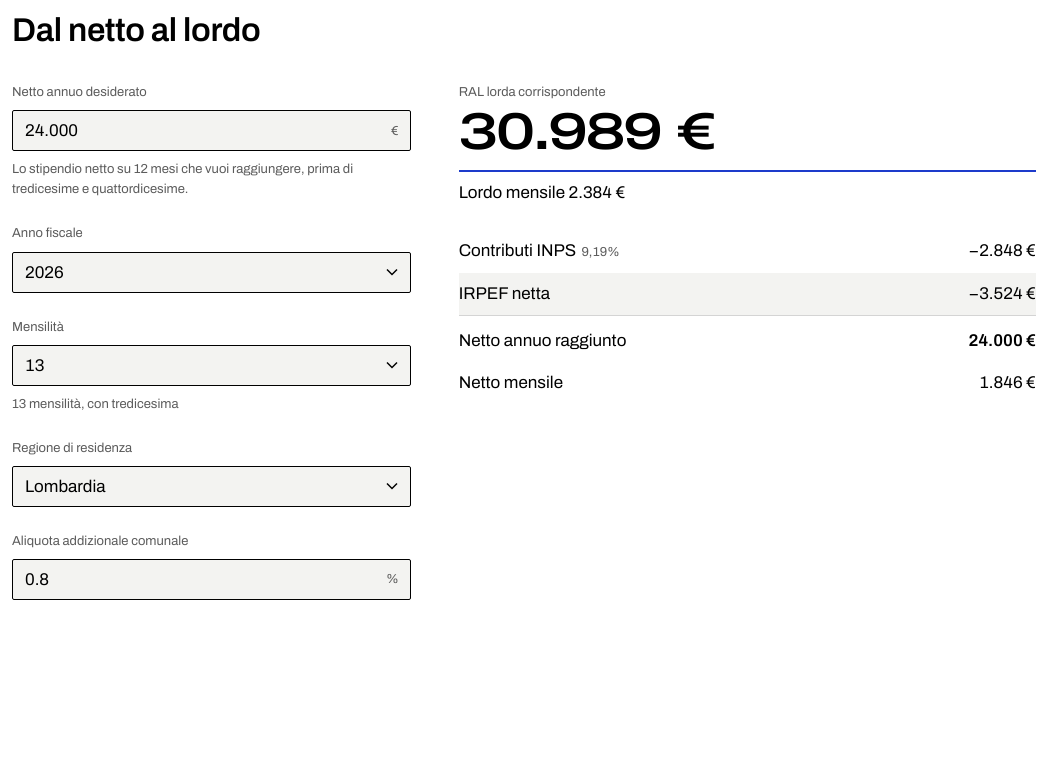
InversePage › updates the target-net field as the user types
This screenshot has width=1048, height=780.
Replace the text in the field labelled "Netto annuo desiderato" with "40000" at (211, 131), box [12,110,411,151]
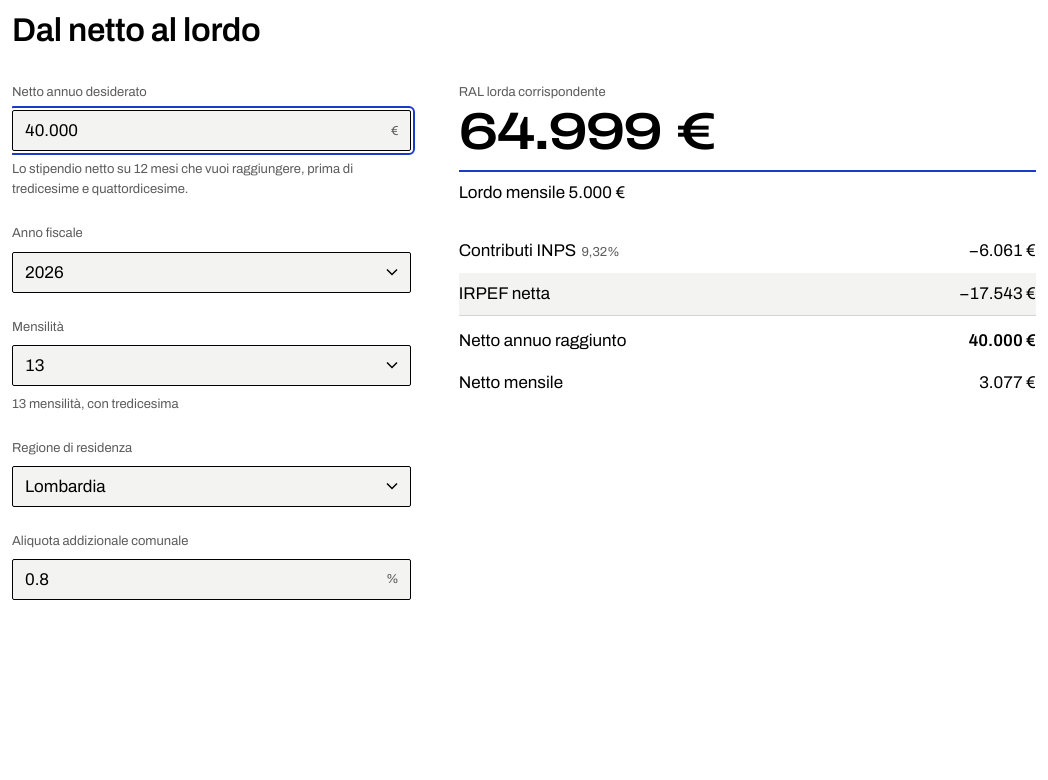
Check: the field labelled "Netto annuo desiderato" holds "40.000", box [12,110,411,151]
